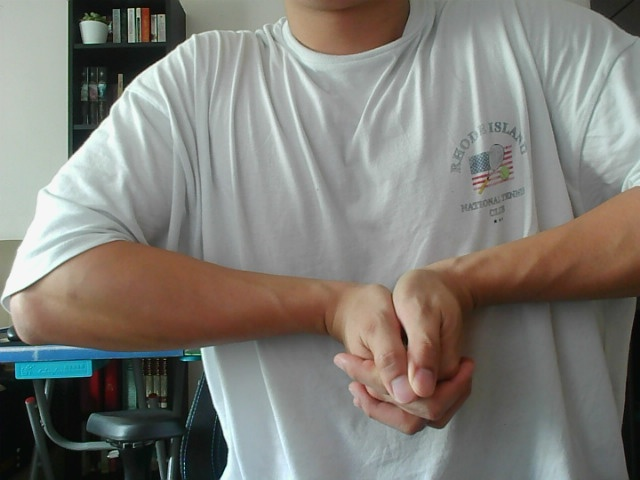Boar: (284, 248, 517, 443)
